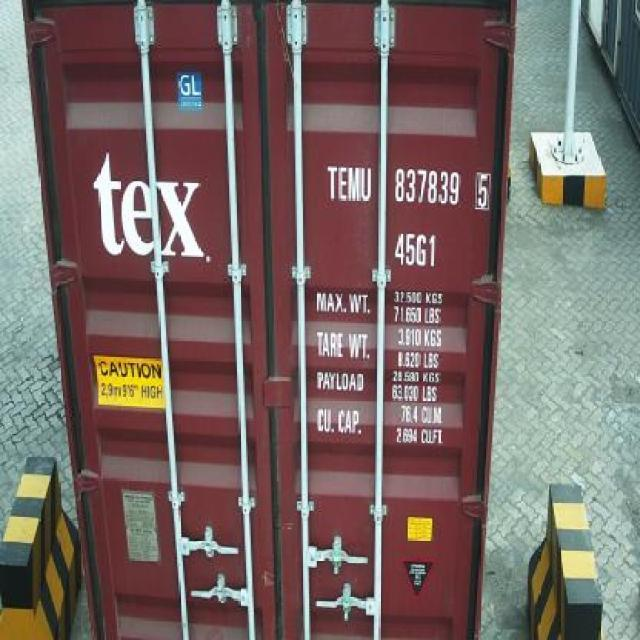ISO: (389, 228, 442, 268)
container_number: (324, 168, 491, 204)
